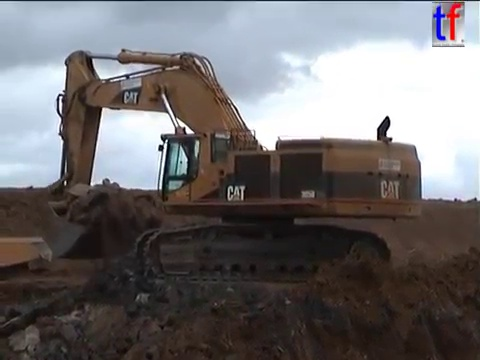excavator: (41, 44, 426, 287)
truck: (1, 232, 56, 273)
